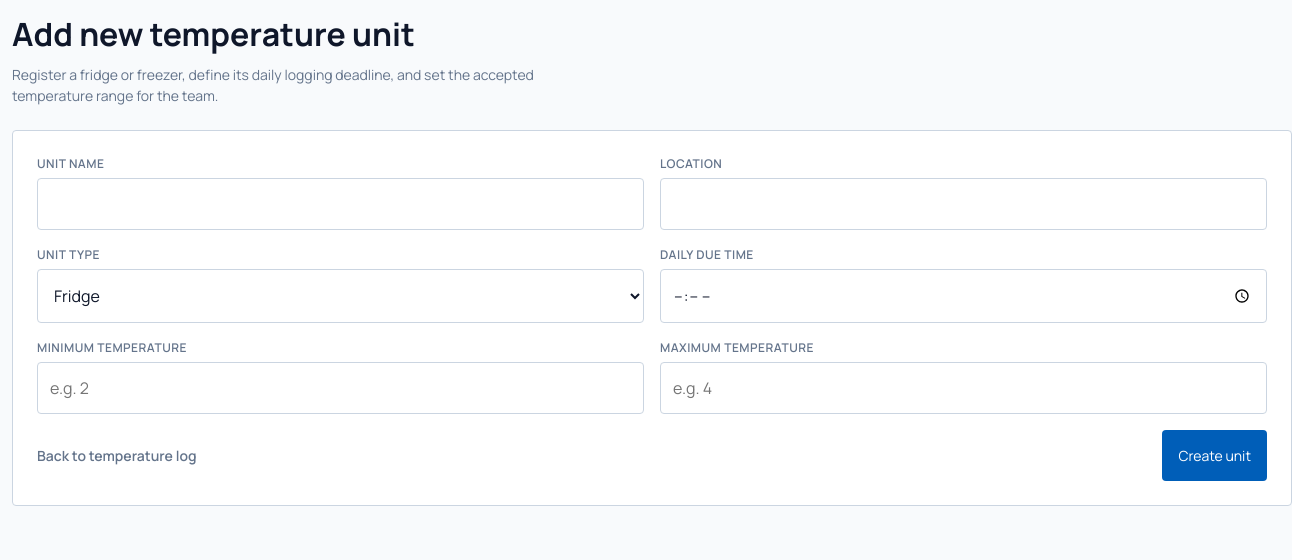
Test: TemperatureUnitCreatePage › shows a validation message when the range is invalid
Type "Prep fridge" into the field labelled "Unit name" at {"x": 340, "y": 204}, box [37,178,644,230]
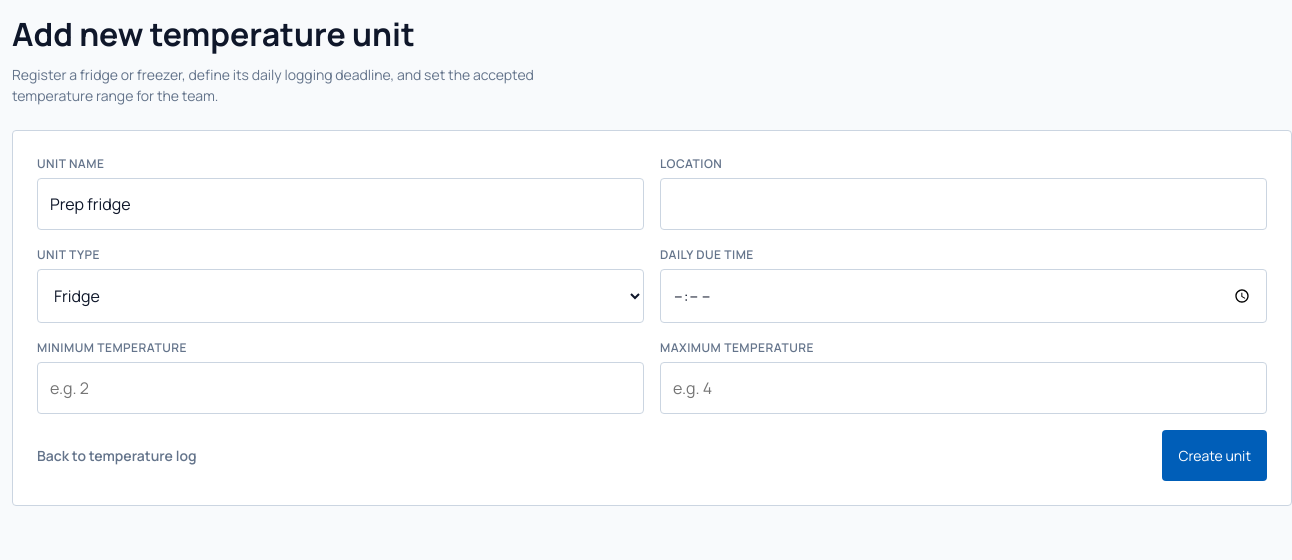
Type "Main prep line" into the field labelled "Location" at {"x": 964, "y": 204}, box [660,178,1267,230]
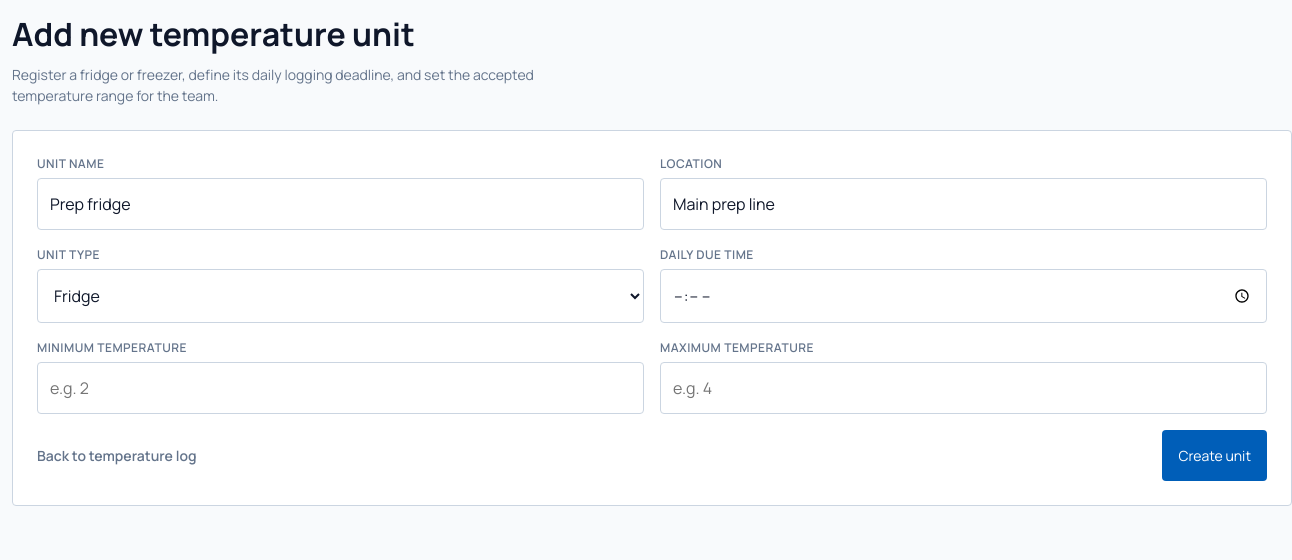
Type "5" into the field labelled "Minimum temperature" at {"x": 340, "y": 388}, box [37,362,644,414]
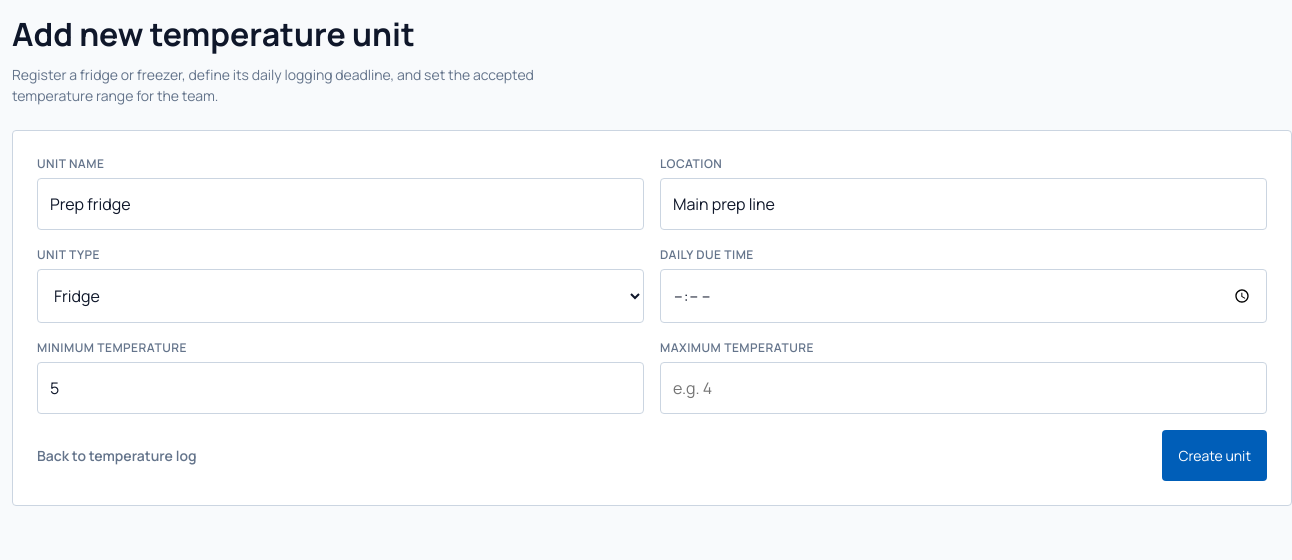
Type "2" into the field labelled "Maximum temperature" at {"x": 964, "y": 388}, box [660,362,1267,414]
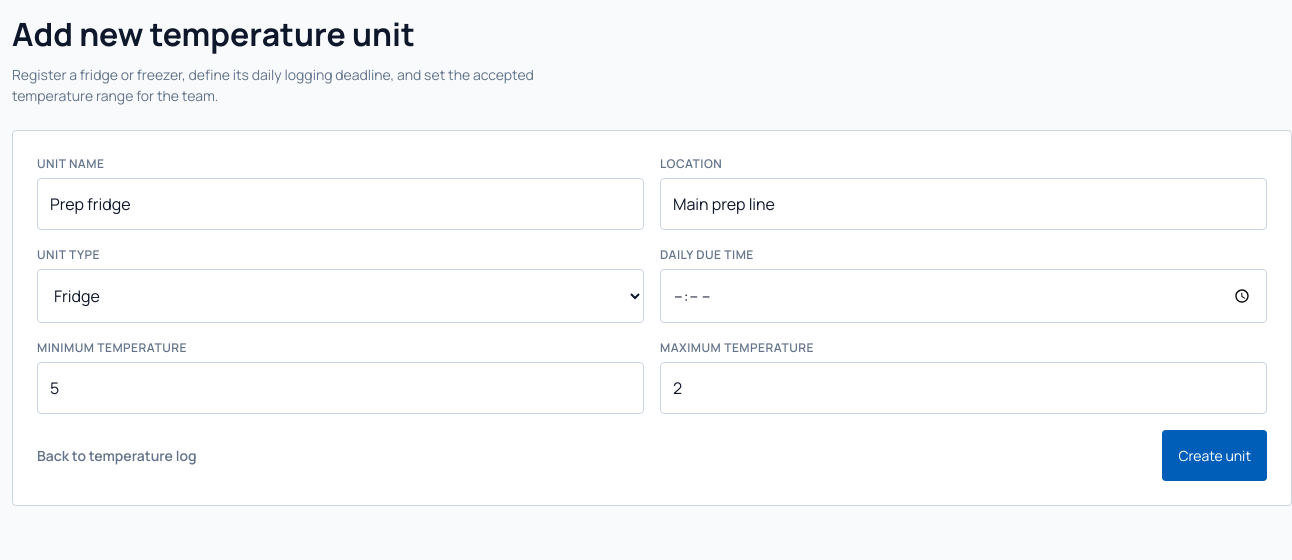
Type "08:15" into the time field labelled "Daily due time" at {"x": 964, "y": 296}, box [660,269,1267,323]
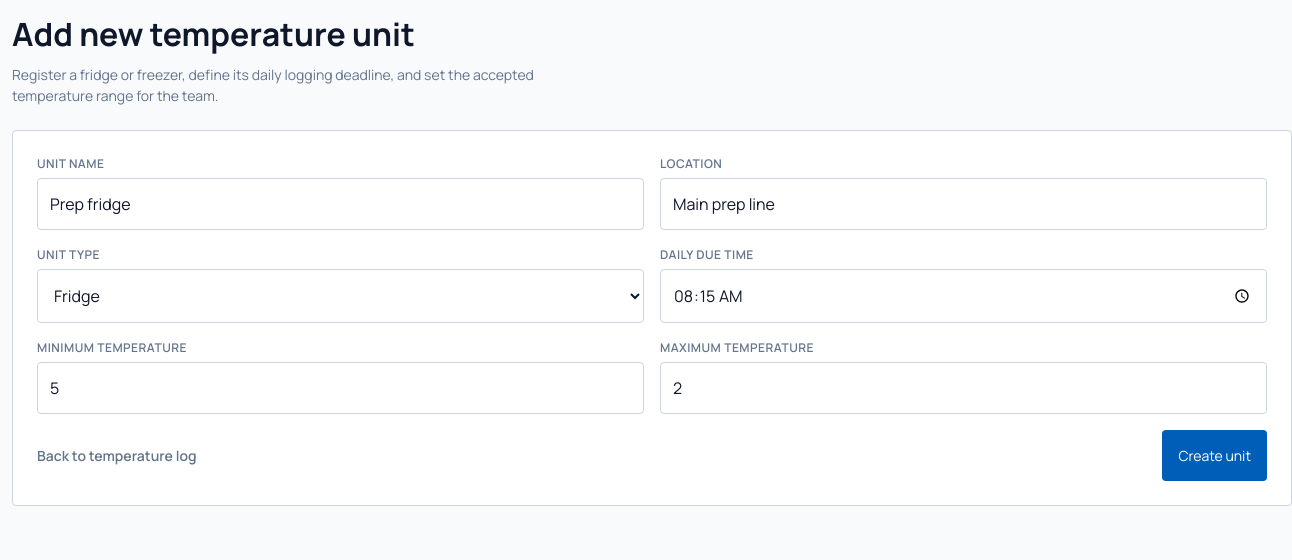
Submit the form
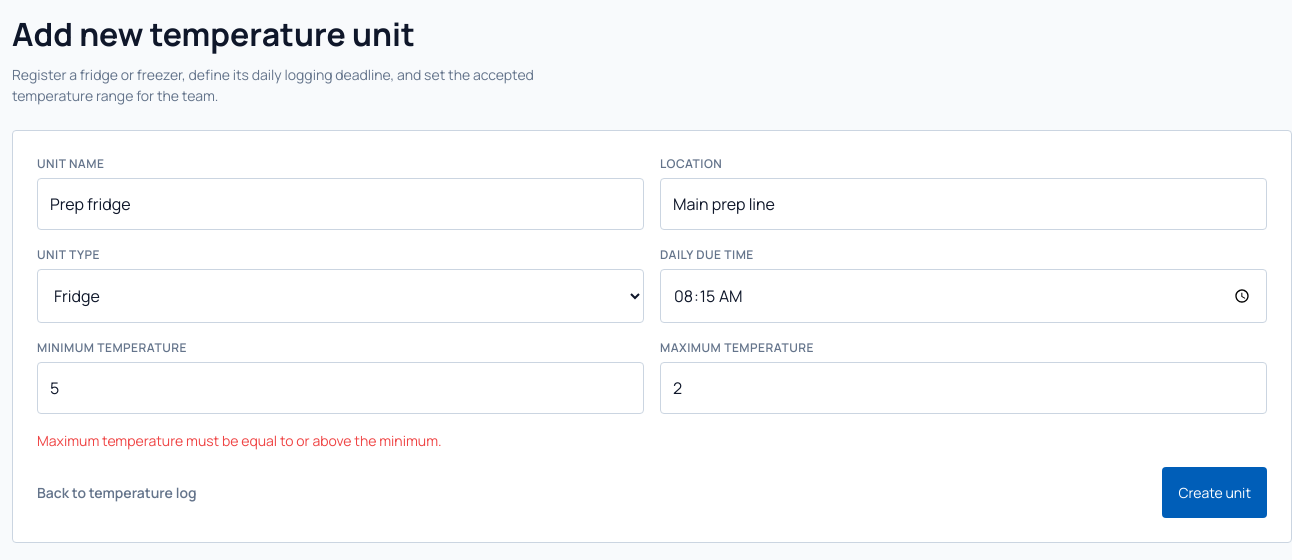
Result: the text "Maximum temperature must be equal to or above the minimum." is shown at [37,431,442,450]
